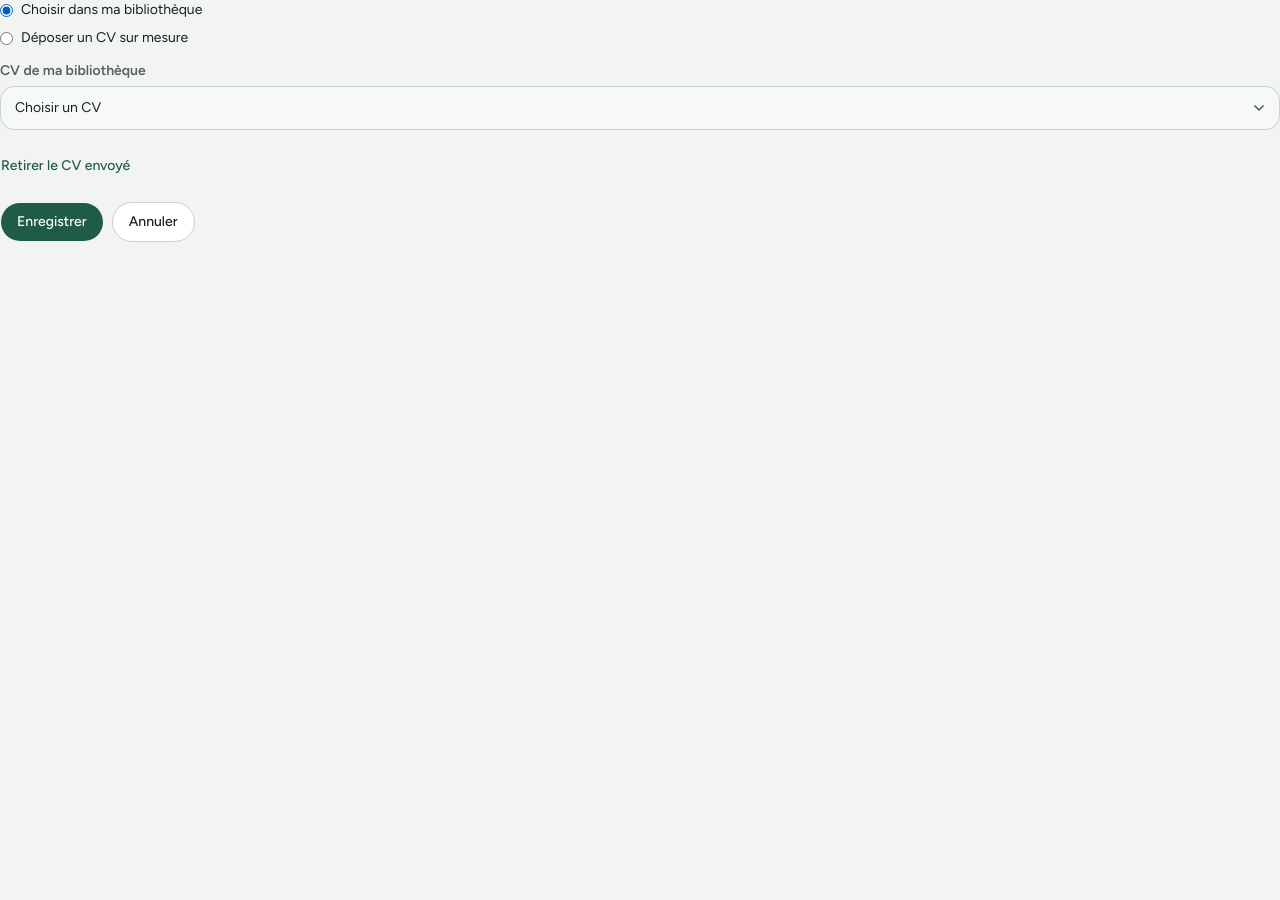
Test: SentCvEditForm › does nothing when the confirmation is cancelled
Click the button "Retirer le CV envoyé". click: [66, 166]
box: [0,146,131,186]
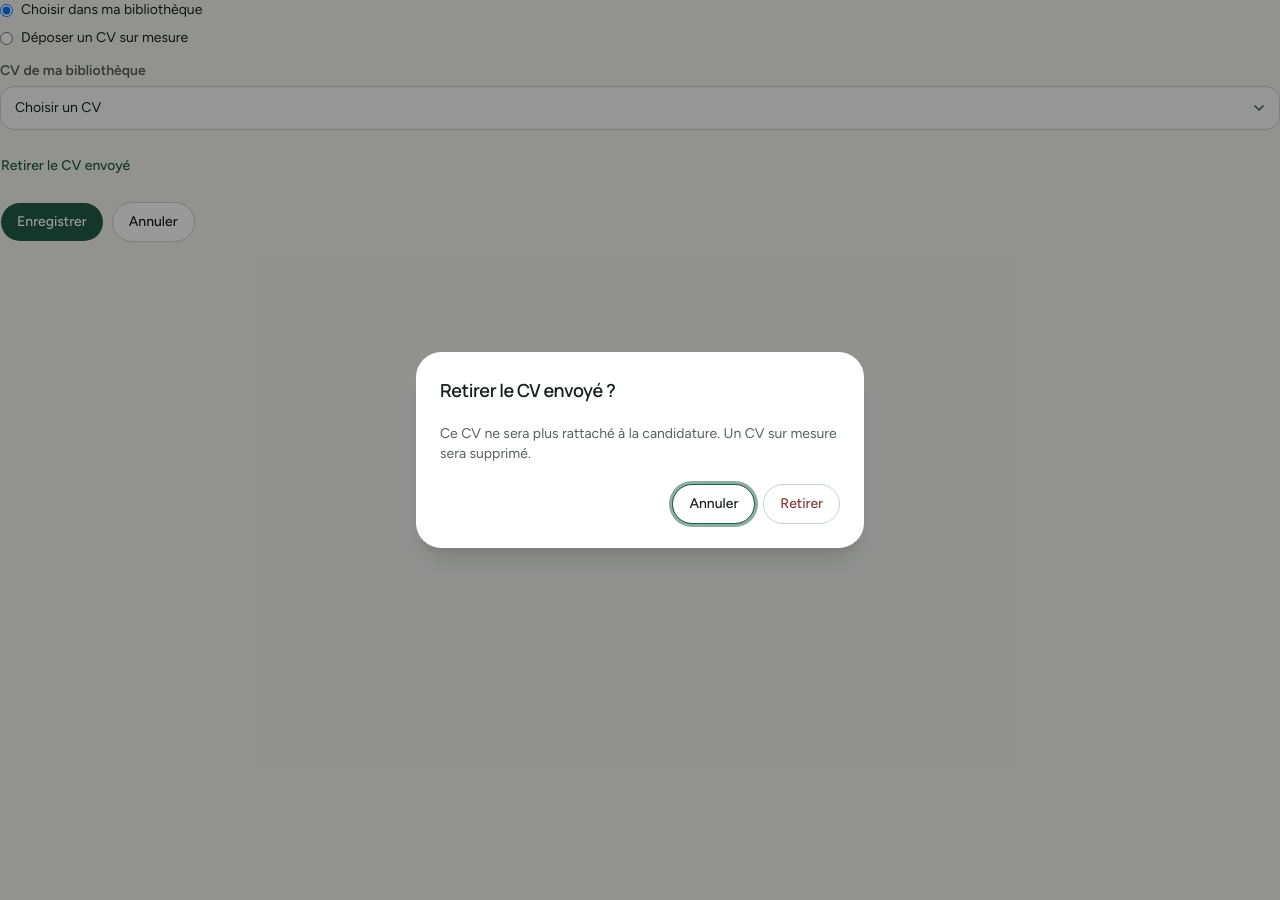
Click the button "Annuler". click: [714, 504]
box: [672,484,755,524]
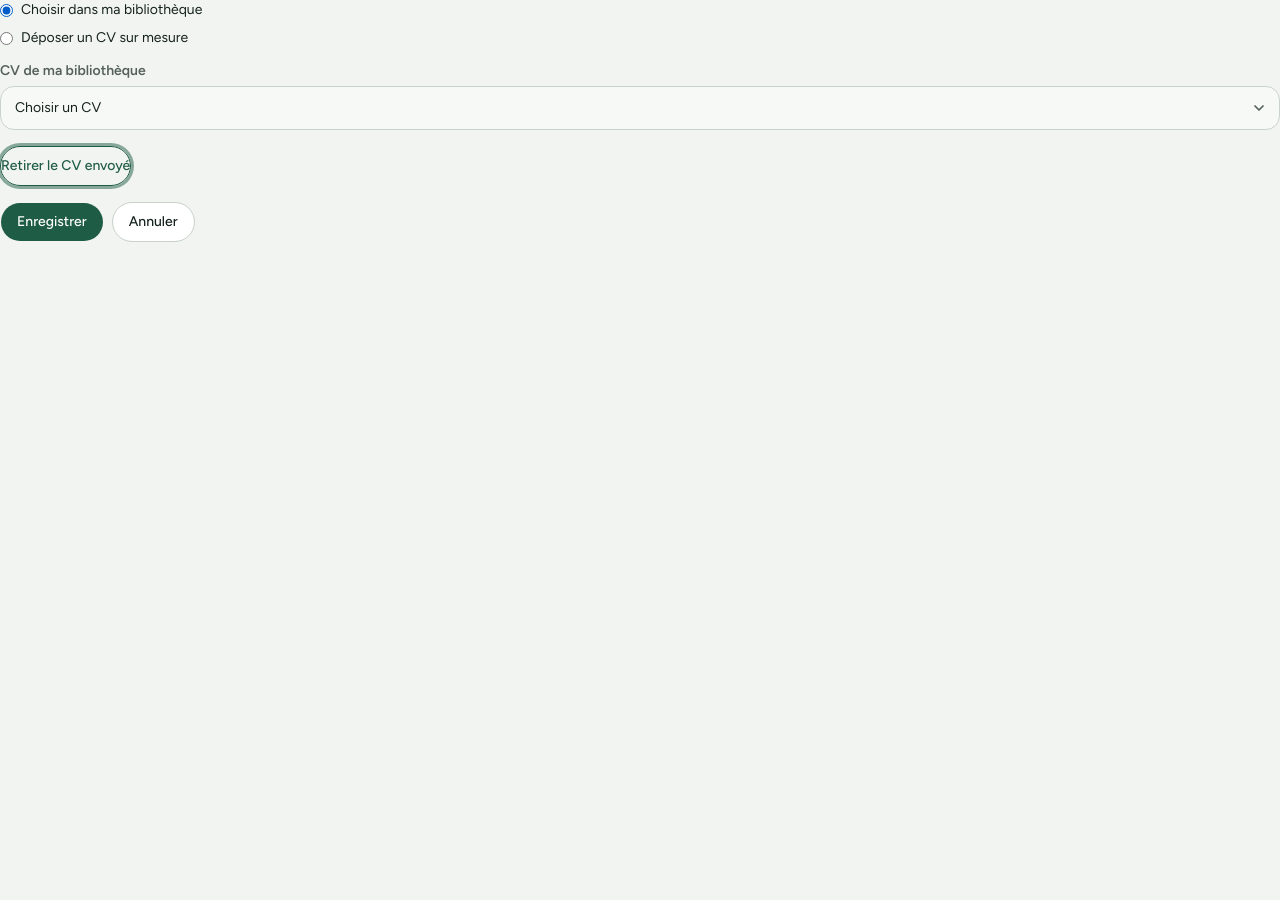
Now the dialog is gone
